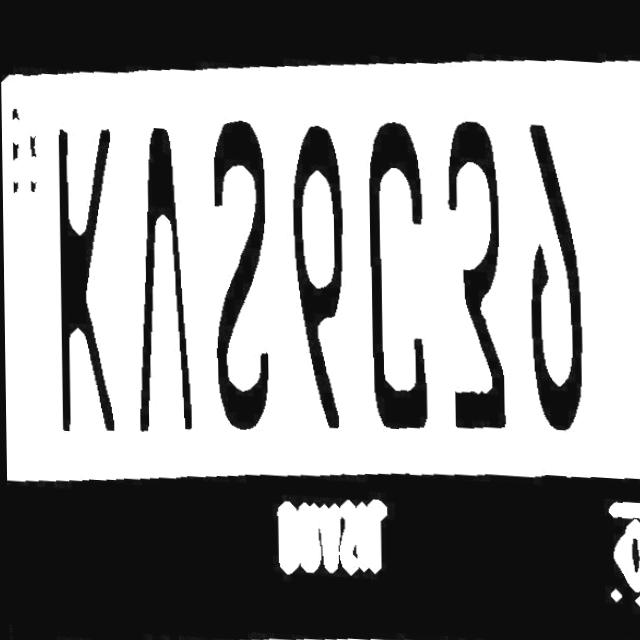3: (435, 98, 512, 447)
6: (278, 103, 359, 441)
9: (511, 110, 593, 455)
c: (361, 99, 436, 442)
k: (35, 112, 123, 451)
s: (197, 110, 280, 444)
v: (126, 103, 195, 449)
